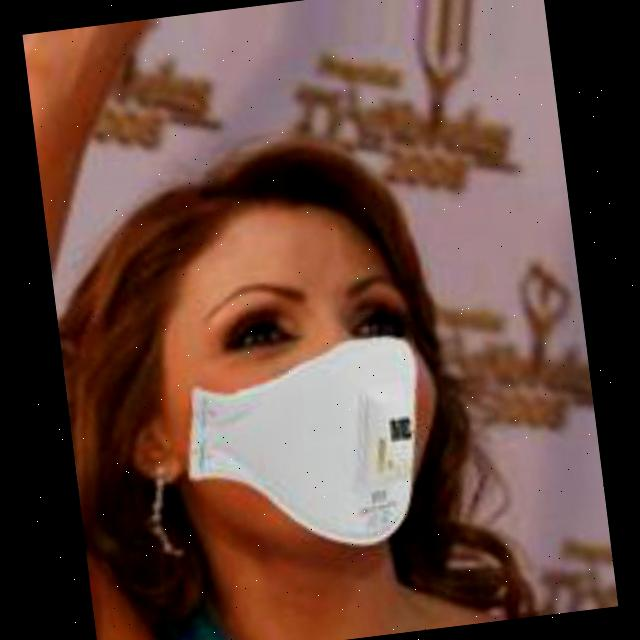suspicion: (125, 100, 498, 580)
